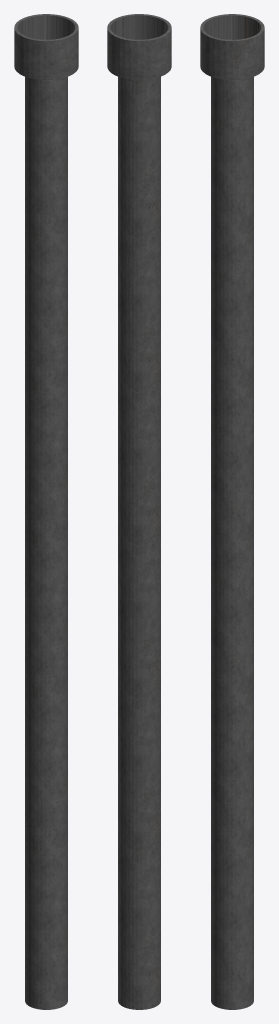
File: rainDrainTop.fbx
3 renders of one model, left to right at view 1: azimuth 90°, elevation 25°; view 2: azimuth 210°, elevation 25°; view 3: azimuth 270°, elevation 25°, orthographic.
Parts seen in each view (by area): view 1: Cylinder.001; view 2: Cylinder.001; view 3: Cylinder.001.
Part boxes in pixels (box(x1,y1,x2,y2)): Cylinder.001: box(14, 14, 78, 1009); Cylinder.001: box(107, 14, 171, 1009); Cylinder.001: box(200, 14, 264, 1009).
Size of the model in its own units: 15 by 250 by 15.
